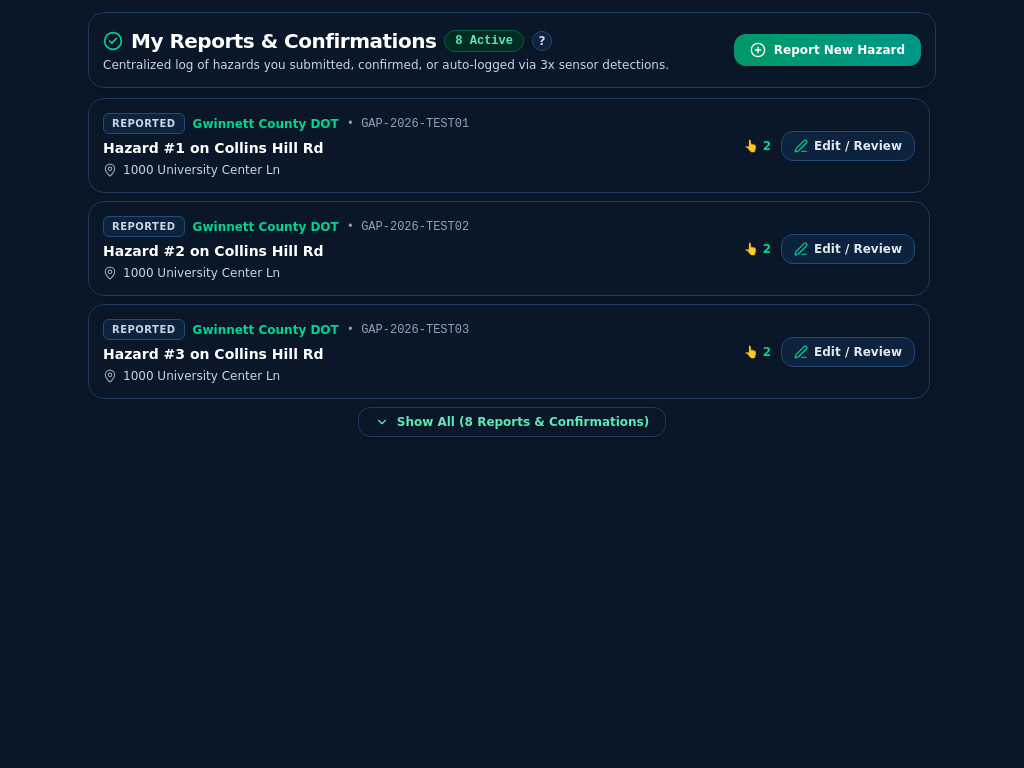
Scenario: MyReportsView Component › should toggle Show All inside the scrollable container
expect the heading "Hazard #1 on Collins Hill Rd" is shown: met, box [103,140,324,156]
expect the heading "Hazard #3 on Collins Hill Rd" is shown: met, box [103,346,324,362]
Click Show All
What coordinates should you click on to do the following:
click the button "Show All (8 Reports & Confirmations)"
I would click on:
 (512, 422)
Its box is [358,407,666,437].
(page scrolled)
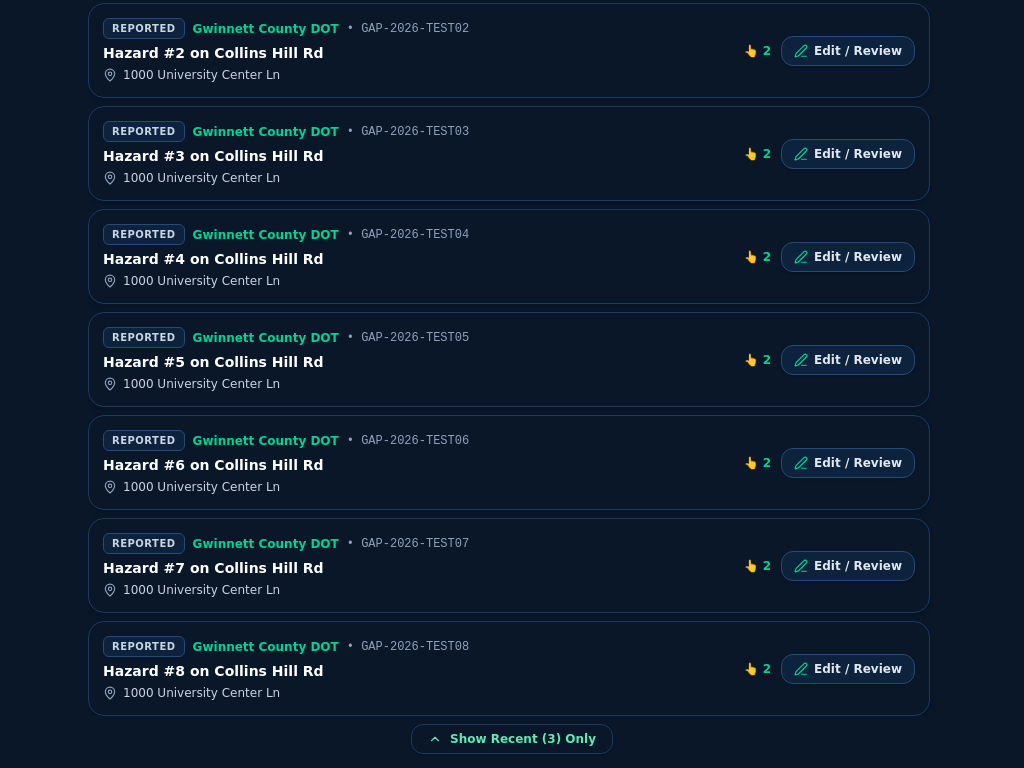
expect the heading "Hazard #7 on Collins Hill Rd" is shown: met, box [103,560,324,576]
expect the text "Show Recent (3) Only" is shown: met, box [450,731,596,747]
